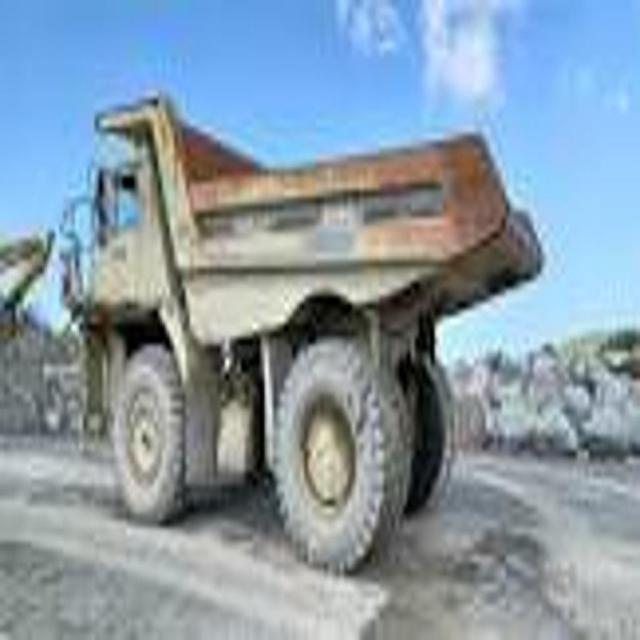dump_truck: (58, 79, 544, 579)
